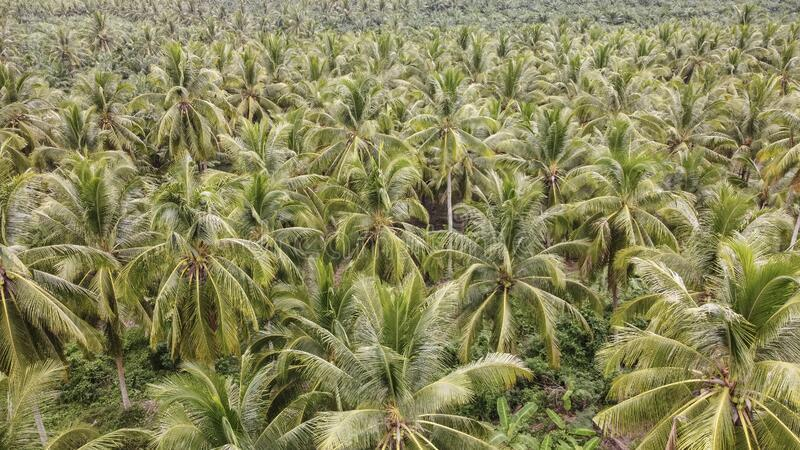coconut_tree: (586, 265, 799, 449), (295, 312, 524, 449), (140, 194, 277, 358), (323, 179, 440, 278)
